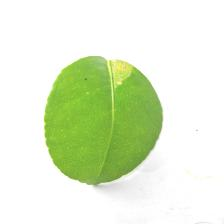greening: (96, 54, 143, 104)
